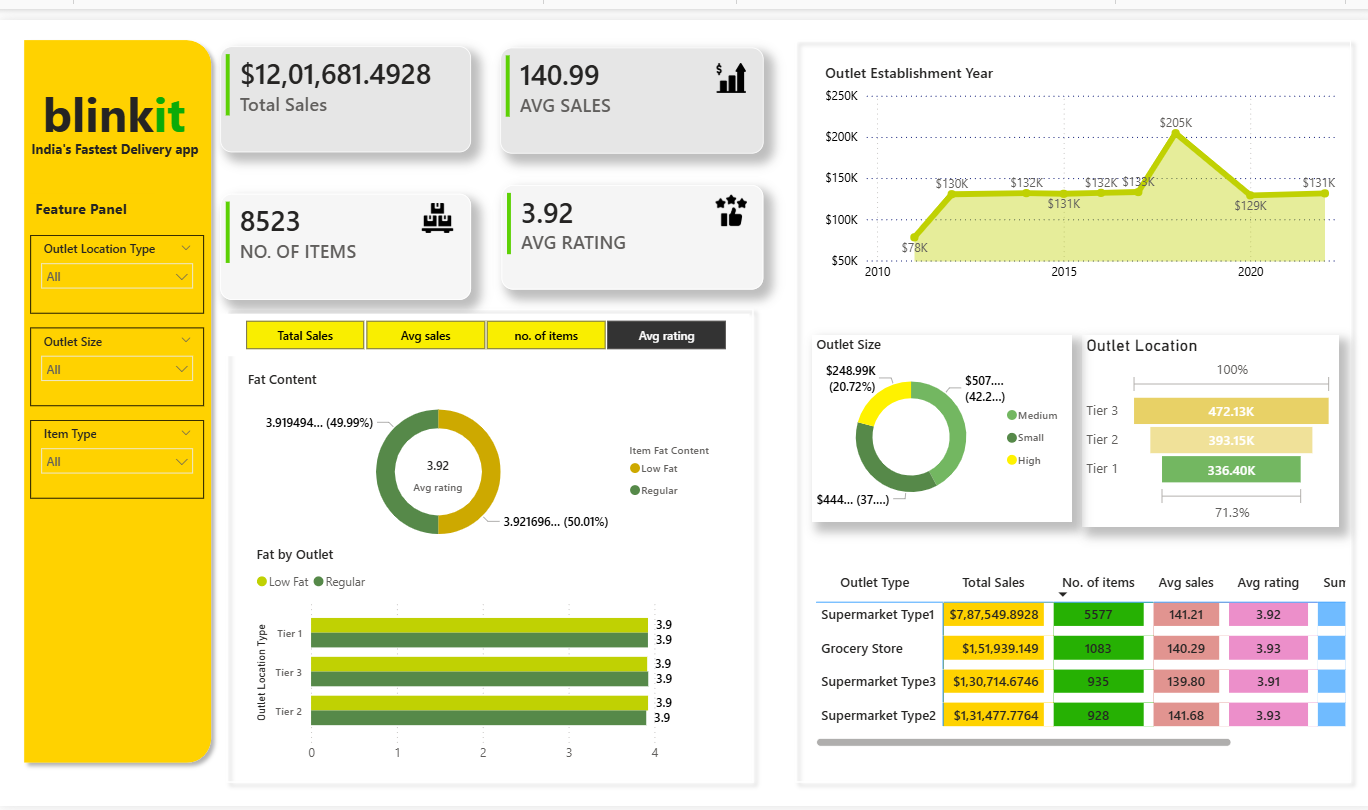

The page's visual inventory and layout, read from the dashboard file:
{"tool":"powerbi","page":{"name":"Page 1","canvas":[1400,800],"ordinal":0},"visuals":[{"type":"shape","box":[222.9,284.3,554,500],"z":0},{"type":"shape","box":[16.7,11.7,208.3,753.3],"z":1000},{"type":"textbox","box":[38.9,57.6,164.9,76.4],"z":3000},{"type":"textbox","box":[28.3,116.7,195,31.7],"z":4000},{"type":"multiRowCard","fields":{"Values":["BlinkIT Grocery Data.Avg sales"]},"box":[510,28.3,268.3,108.3],"z":5000},{"type":"multiRowCard","fields":{"Values":["BlinkIT Grocery Data.Tatal Sales"]},"box":[880,41.7,221.7,106.7],"z":6000},{"type":"multiRowCard","fields":{"Values":["BlinkIT Grocery Data.Avg rating"]},"box":[511.7,168.3,266.7,106.7],"z":7000},{"type":"multiRowCard","fields":{"Values":["BlinkIT Grocery Data.no. of items"]},"box":[225,176.7,255,108.3],"z":8000},{"type":"image","box":[383.3,51.7,65,43.3],"z":9000},{"type":"image","box":[846.7,81.7,65,41.7],"z":10000},{"type":"image","box":[711.7,173.3,65,41.7],"z":11000},{"type":"image","box":[413.3,180,65,41.7],"z":12000},{"type":"slicer","fields":{"Values":["Metrics.Metrics"]},"box":[225.7,298.6,538.6,42.9],"z":13000},{"type":"donutChart","title":"Fat Content","fields":{"Y":["BlinkIT Grocery Data.Avg rating"],"Category":["BlinkIT Grocery Data.Item Fat Content"]},"box":[248.6,355.7,501.4,190],"z":14000},{"type":"card","fields":{"Values":["BlinkIT Grocery Data.Avg rating"]},"box":[414.3,437.1,64.3,50],"z":15000},{"type":"clusteredBarChart","title":"Fat by Outlet","fields":{"Y":["BlinkIT Grocery Data.Avg rating"],"Category":["BlinkIT Grocery Data.Outlet Location Type"],"Series":["BlinkIT Grocery Data.Item Fat Content"]},"box":[257.1,534.3,505.7,230],"z":16000},{"type":"shape","box":[801.7,11.7,583.3,773.3],"z":17000},{"type":"lineChart","title":" Outlet Establishment Year","fields":{"Category":["BlinkIT Grocery Data.Outlet Establishment Year"],"Y":["BlinkIT Grocery Data.Tatal Sales"]},"box":[835,43.3,531.7,231.7],"z":18000},{"type":"donutChart","title":"Outlet Size","fields":{"Y":["BlinkIT Grocery Data.Tatal Sales"],"Category":["BlinkIT Grocery Data.Outlet Size"]},"box":[826.7,320,265,190],"z":19000},{"type":"funnel","title":"Outlet Location ","fields":{"Y":["Sum(BlinkIT Grocery Data.Sales)"],"Category":["BlinkIT Grocery Data.Outlet Location Type"]},"box":[1101.7,320,261.7,195],"z":20000},{"type":"pivotTable","fields":{"Rows":["BlinkIT Grocery Data.Outlet Type"],"Values":["BlinkIT Grocery Data.Tatal Sales","BlinkIT Grocery Data.no. of items","BlinkIT Grocery Data.Avg sales","BlinkIT Grocery Data.Avg rating","Sum(BlinkIT Grocery Data.Item Visibility)"]},"box":[826.7,555,548.3,190],"z":21000},{"type":"slicer","fields":{"Values":["BlinkIT Grocery Data.Outlet Location Type"]},"box":[31.7,218.3,176.7,80],"z":22000},{"type":"slicer","fields":{"Values":["BlinkIT Grocery Data.Outlet Size"]},"box":[31.7,313.3,176.7,80],"z":23000},{"type":"slicer","fields":{"Values":["BlinkIT Grocery Data.Item Type"]},"box":[31.7,406.7,176.7,80],"z":23001},{"type":"textbox","box":[31.7,176.7,126.7,35],"z":23002},{"type":"multiRowCard","fields":{"Values":["BlinkIT Grocery Data.Total Sales"]},"box":[225,26.7,255,108.3],"z":23003},{"type":"image","box":[711.7,38.3,65,41.7],"z":23004}]}

Visuals, with their boxes on the page's 1400x800 design canvas (x1, y1, x2, y2). These are canvas units, not pixel positions in the 1368x810 screenshot, which may show the page scaled, cropped or inside an application window:
shape: (223, 284, 777, 784)
shape: (17, 12, 225, 765)
textbox: (39, 58, 204, 134)
textbox: (28, 117, 223, 148)
multiRowCard - BlinkIT Grocery Data.Avg sales: (510, 28, 778, 137)
multiRowCard - BlinkIT Grocery Data.Tatal Sales: (880, 42, 1102, 148)
multiRowCard - BlinkIT Grocery Data.Avg rating: (512, 168, 778, 275)
multiRowCard - BlinkIT Grocery Data.no. of items: (225, 177, 480, 285)
image: (383, 52, 448, 95)
image: (847, 82, 912, 123)
image: (712, 173, 777, 215)
image: (413, 180, 478, 222)
slicer - Metrics.Metrics: (226, 299, 764, 342)
"Fat Content" donutChart: (249, 356, 750, 546)
card - BlinkIT Grocery Data.Avg rating: (414, 437, 479, 487)
"Fat by Outlet" clusteredBarChart: (257, 534, 763, 764)
shape: (802, 12, 1385, 785)
" Outlet Establishment Year" lineChart: (835, 43, 1367, 275)
"Outlet Size" donutChart: (827, 320, 1092, 510)
"Outlet Location " funnel: (1102, 320, 1363, 515)
pivotTable - BlinkIT Grocery Data.Outlet Type x BlinkIT Grocery Data.Tatal Sales: (827, 555, 1375, 745)
slicer - BlinkIT Grocery Data.Outlet Location Type: (32, 218, 208, 298)
slicer - BlinkIT Grocery Data.Outlet Size: (32, 313, 208, 393)
slicer - BlinkIT Grocery Data.Item Type: (32, 407, 208, 487)
textbox: (32, 177, 158, 212)
multiRowCard - BlinkIT Grocery Data.Total Sales: (225, 27, 480, 135)
image: (712, 38, 777, 80)
